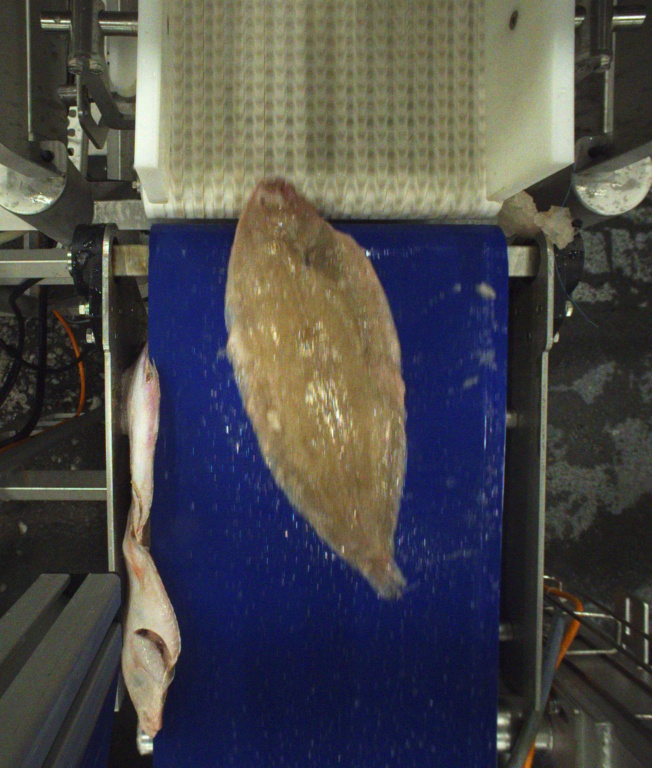SOL: (224, 176, 406, 601)
